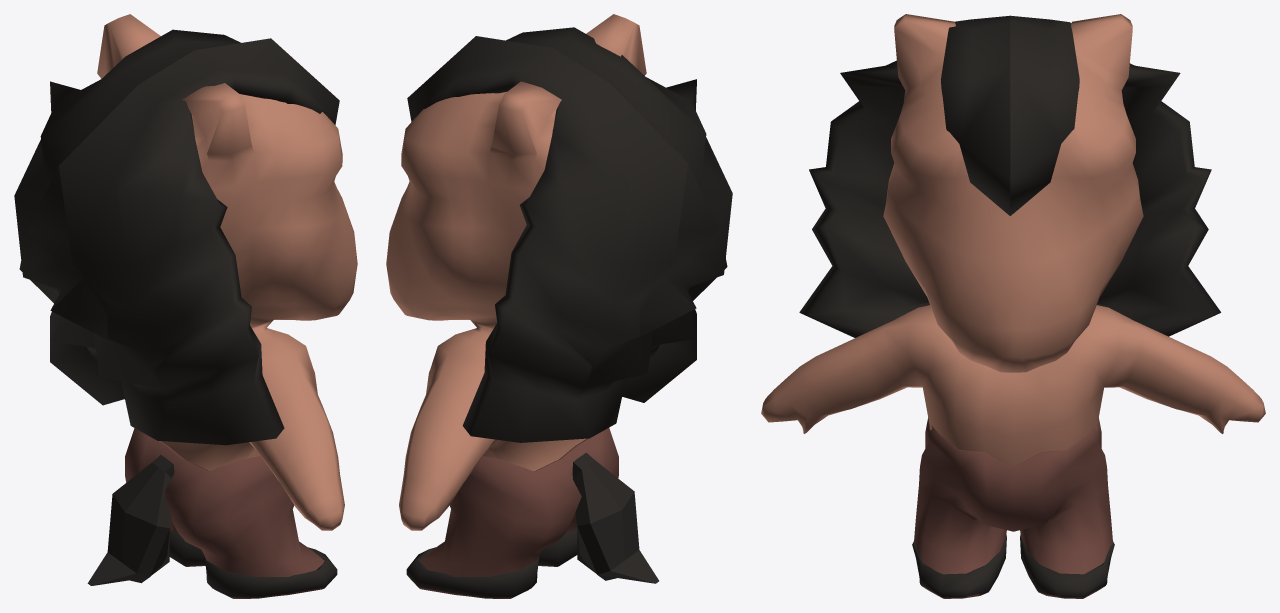
Rendered from Monster4Tikbalang.fbx.
The picture shows the model from 3 angles, left to right: view 1: azimuth 30°, elevation 25°; view 2: azimuth 150°, elevation 25°; view 3: azimuth 270°, elevation 25°; orthographic projection.
Parts seen in each view (by area): view 1: Hair, body, Lower, Hoof; view 2: Hair, body, Lower, Hoof; view 3: body, Hair, Lower, Hoof.
Part boxes in pixels (x1,y1,x2,y2): Hair: [14, 29, 339, 585]; body: [97, 14, 357, 530]; Lower: [125, 428, 334, 598]; Hoof: [169, 531, 337, 597]; Hair: [407, 27, 732, 583]; body: [386, 14, 646, 530]; Lower: [409, 428, 618, 598]; Hoof: [406, 530, 577, 597]; body: [761, 14, 1265, 466]; Hair: [799, 15, 1220, 337]; Lower: [914, 418, 1112, 598]; Hoof: [912, 534, 1114, 597].
Size of the model in its own units: 163 by 276 by 240.
